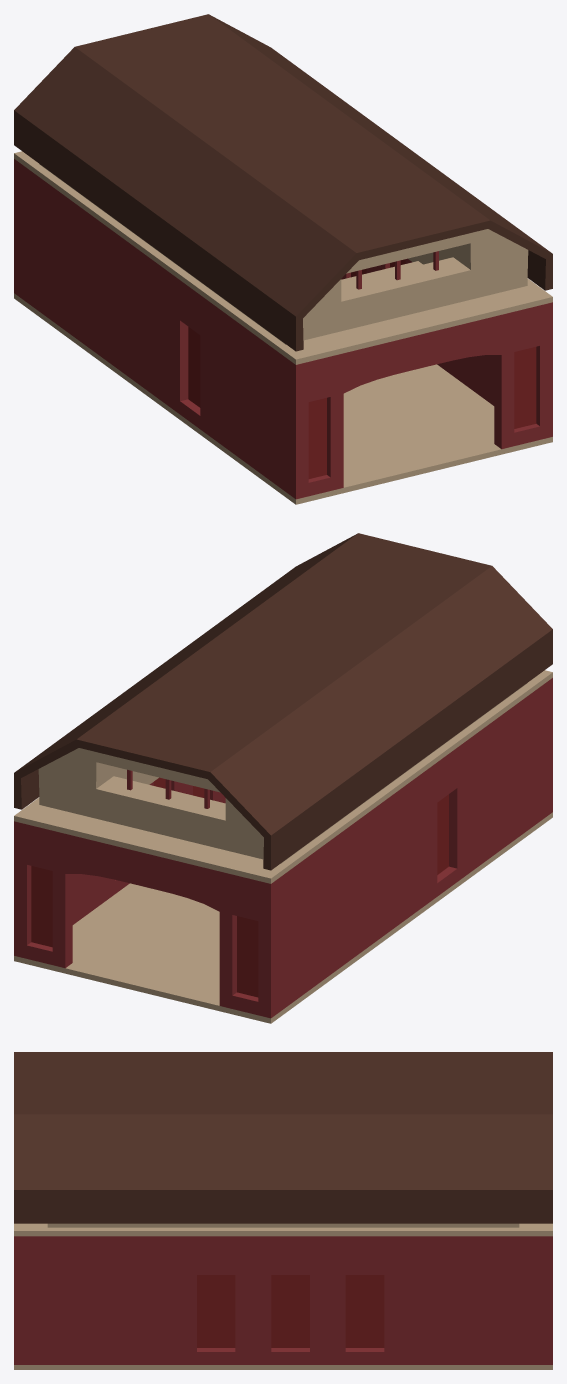
Rendered from Vehicle_Shed.fbx.
3 views of the same model, one above another, from view 1: azimuth 30°, elevation 25°; view 2: azimuth 150°, elevation 25°; view 3: azimuth 270°, elevation 25° (orthographic). The views are drawn at different scales.
Parts seen in each view (by area): view 1: Storage_House; view 2: Storage_House; view 3: Storage_House.
Part boxes in pixels (<box>): Storage_House: <box>14,14,552,504</box>; Storage_House: <box>14,533,552,1023</box>; Storage_House: <box>14,1052,552,1369</box>.
Bounding box in the file's own units: 1600 × 1409 × 3040.
